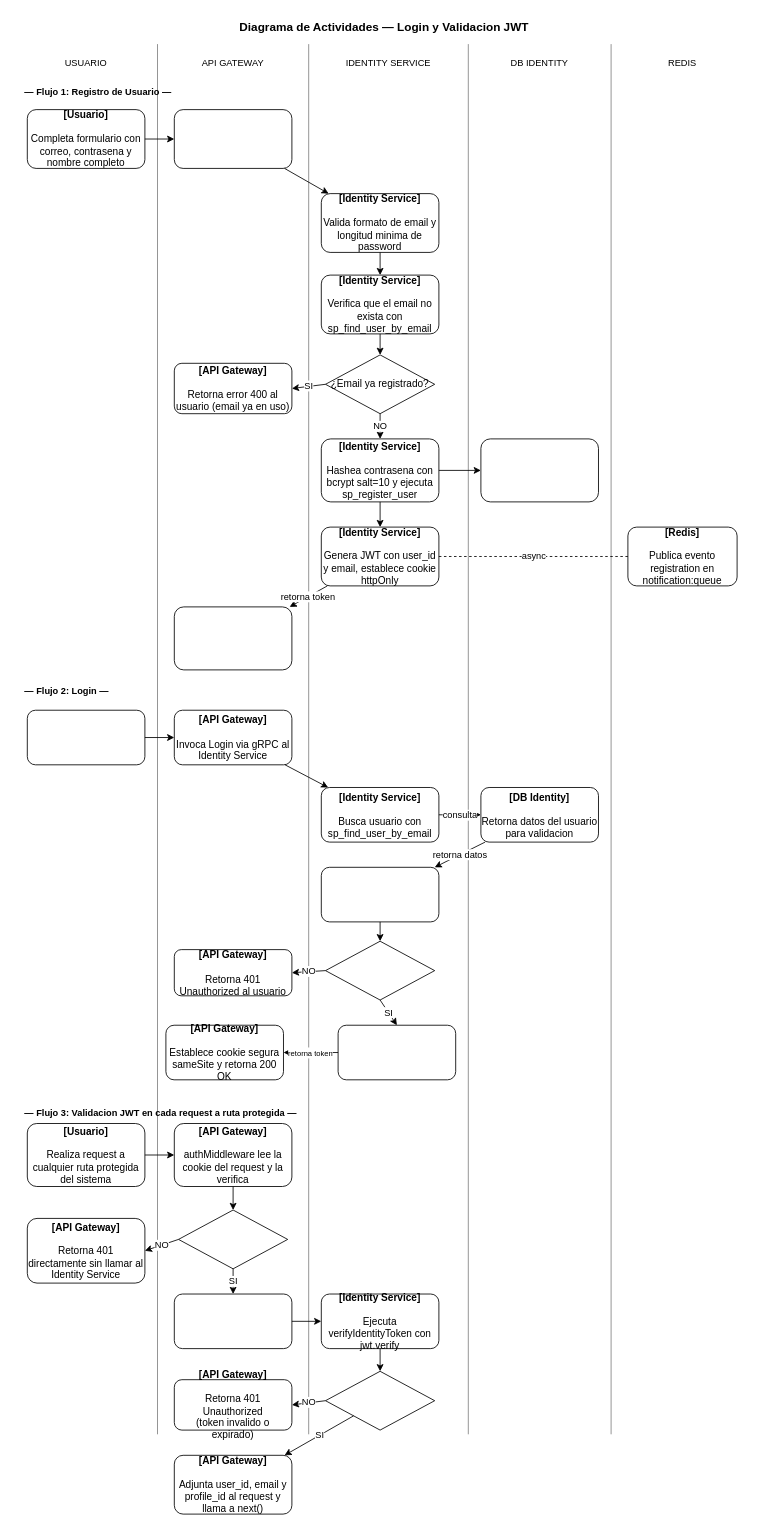
The diagram is 768 pixels wide and 1529 high, and some of its shapes have lost their labels. The centre of each missing label's shape, as x and y in pixels:
"[API Gateway] Invoca ValidateToken via gRPC al Identity Service" belongs at pixel 232 1321.
"[API Gateway] Recibe solicitud de registro y llama a RegisterUser via gRPC" belongs at pixel 232 138.
"[API Gateway] Retorna 200 OK al usuario con token de sesion" belongs at pixel 232 638.
"[DB Identity] Persiste el nuevo usuario en la base de datos" belongs at pixel 539 470.
"[Identity Service] Compara contrasena con bcrypt.compare" belongs at pixel 379 894.
"[Identity Service] Genera nuevo JWT con user_id y email" belongs at pixel 396 1052.
"[Usuario] Envia correo y contrasena para iniciar sesion" belongs at pixel 85 737.
"¿Cookie presente?" belongs at pixel 233 1239.
"¿Credenciales validas?" belongs at pixel 380 970.
"¿Token valido?" belongs at pixel 380 1400.
